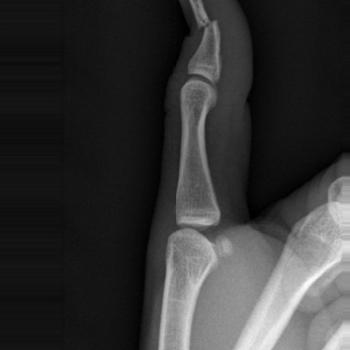Fracture: (189, 13, 225, 39)
